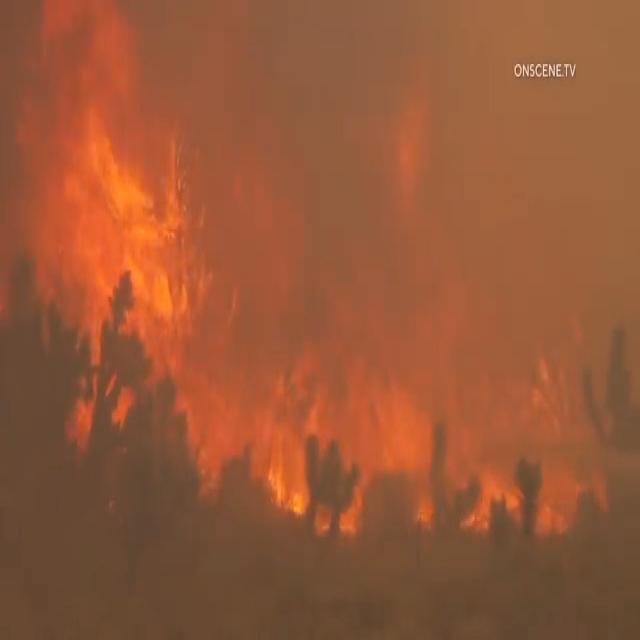fire: (32, 19, 240, 461)
